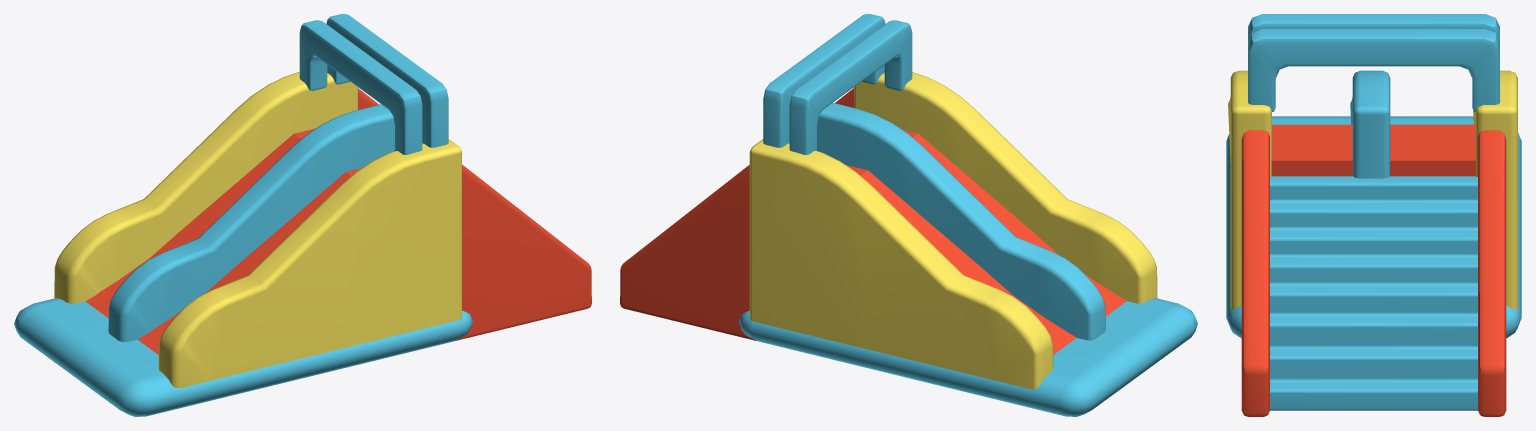
Rendered from Bouncing_Park_lvl_03.fbx.
3 views of the same model, side by side, from view 1: azimuth 30°, elevation 25°; view 2: azimuth 150°, elevation 25°; view 3: azimuth 270°, elevation 25° (orthographic). The views are drawn at different scales.
Visible parts, largest first — view 1: Bouncing_Park_lvl_03; view 2: Bouncing_Park_lvl_03; view 3: Bouncing_Park_lvl_03.
Boxes of the visible parts, x1,y1,x2,y2 form: Bouncing_Park_lvl_03: (14,14,591,416); Bouncing_Park_lvl_03: (620,14,1197,416); Bouncing_Park_lvl_03: (1226,14,1521,416).
Size of the model in its own units: 687 by 356 by 317.
1 material, 1 textured.
